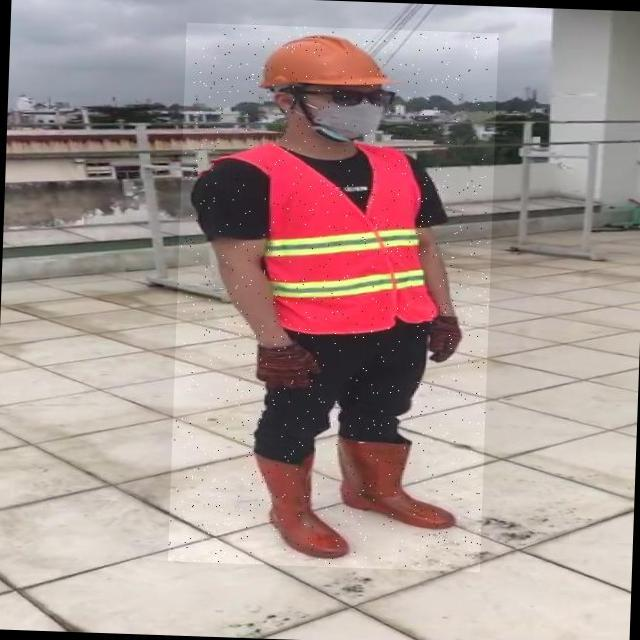Gloves: (252, 344, 324, 391), (433, 316, 461, 365)
Helmet: (249, 26, 396, 93)
Human: (168, 22, 499, 572)
Safety Boot: (333, 434, 460, 531), (248, 451, 352, 560)
Safety Vest: (262, 141, 444, 335)
